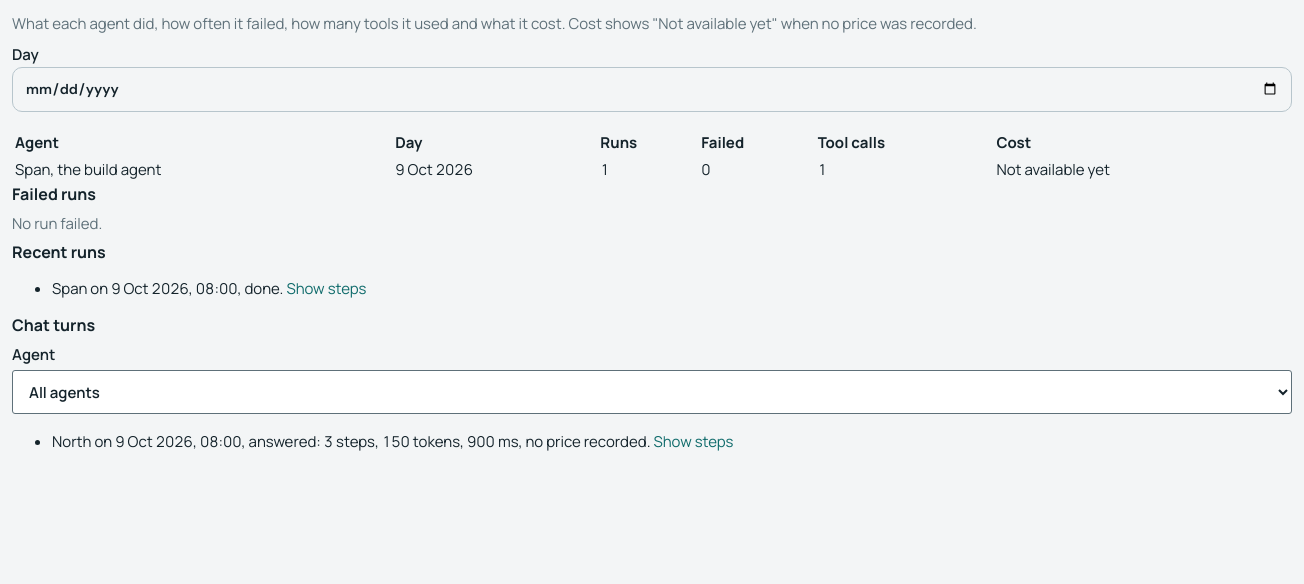
Test case: chat turns are listed with agent, steps, tokens and time, and show their steps
Check: the list named "Chat turns" shows "North", box left=52, top=431, right=92, bottom=452
Check: the list named "Chat turns" shows "3 steps, 150 tokens, 900 ms, no price recorded.", box left=52, top=430, right=734, bottom=453
Click the button "Show steps" in the row of "North" at (693, 442), box left=653, top=430, right=733, bottom=453
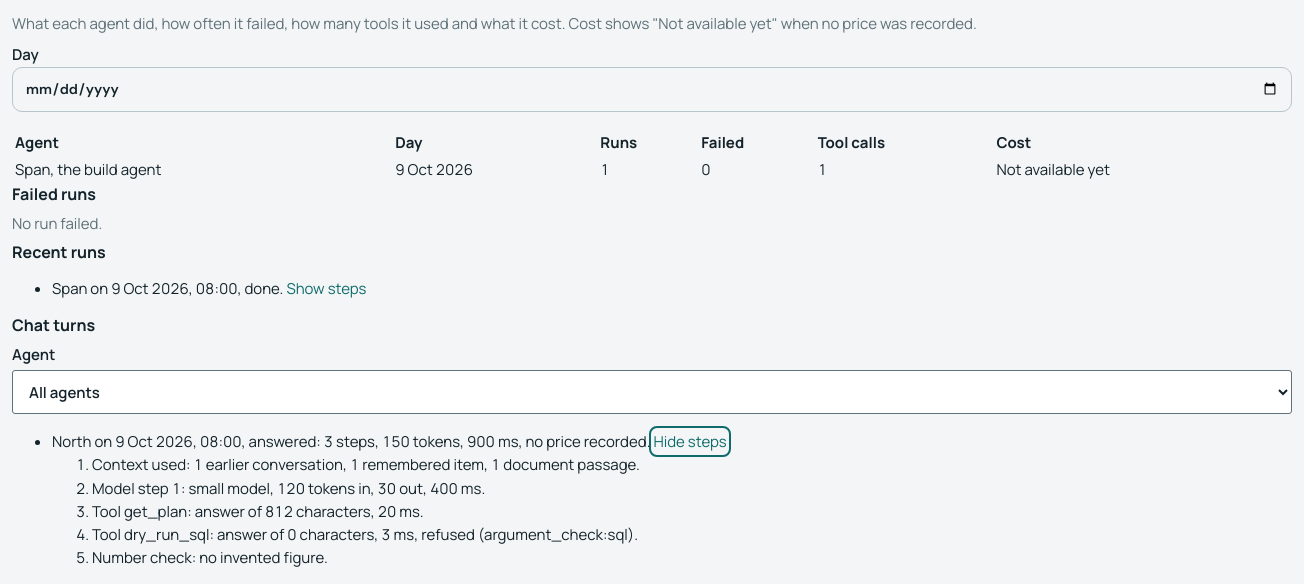
Check: the list named "Steps of the run" shows "Model step 1", box left=92, top=478, right=485, bottom=498
